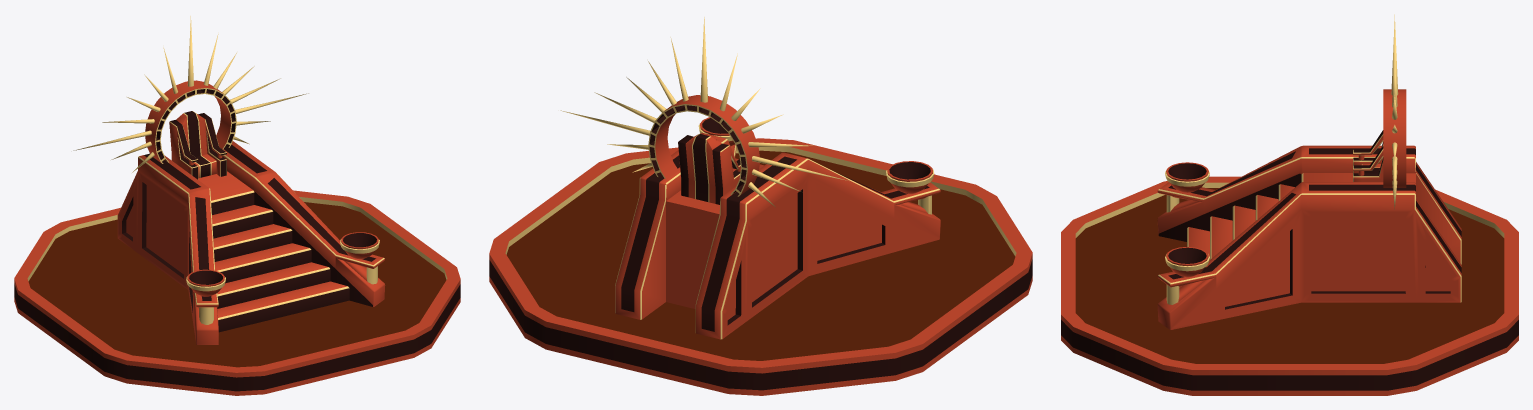
The model's file is Throne.fbx.
The picture shows the model from 3 angles, left to right: view 1: azimuth 30°, elevation 25°; view 2: azimuth 150°, elevation 25°; view 3: azimuth 270°, elevation 25°; orthographic projection. The views are drawn at different scales.
Visible parts, largest first — view 1: BigFundament, ThroneFundament, Stair, Throne, Circle, FireplaceL, FireplaceR; view 2: BigFundament, ThroneFundament, Circle, Throne, FireplaceR; view 3: BigFundament, ThroneFundament, Stair, Circle, Throne, FireplaceR, FireplaceL.
Boxes of the visible parts, x1,y1,x2,y2 form: BigFundament: [14, 190, 460, 395]; ThroneFundament: [117, 141, 385, 344]; Stair: [212, 205, 349, 332]; Throne: [169, 111, 226, 179]; Circle: [145, 80, 236, 163]; FireplaceL: [340, 232, 379, 259]; FireplaceR: [186, 269, 225, 296]; BigFundament: [489, 138, 1032, 395]; ThroneFundament: [615, 132, 940, 339]; Circle: [648, 95, 759, 196]; Throne: [678, 133, 740, 204]; FireplaceR: [886, 161, 934, 193]; BigFundament: [1061, 176, 1518, 395]; ThroneFundament: [1157, 145, 1461, 329]; Stair: [1187, 184, 1294, 260]; Circle: [1383, 89, 1406, 187]; Throne: [1353, 130, 1383, 181]; FireplaceR: [1165, 162, 1209, 192]; FireplaceL: [1165, 246, 1209, 277].
Size of the model in its own units: 8 by 5.5 by 8.
